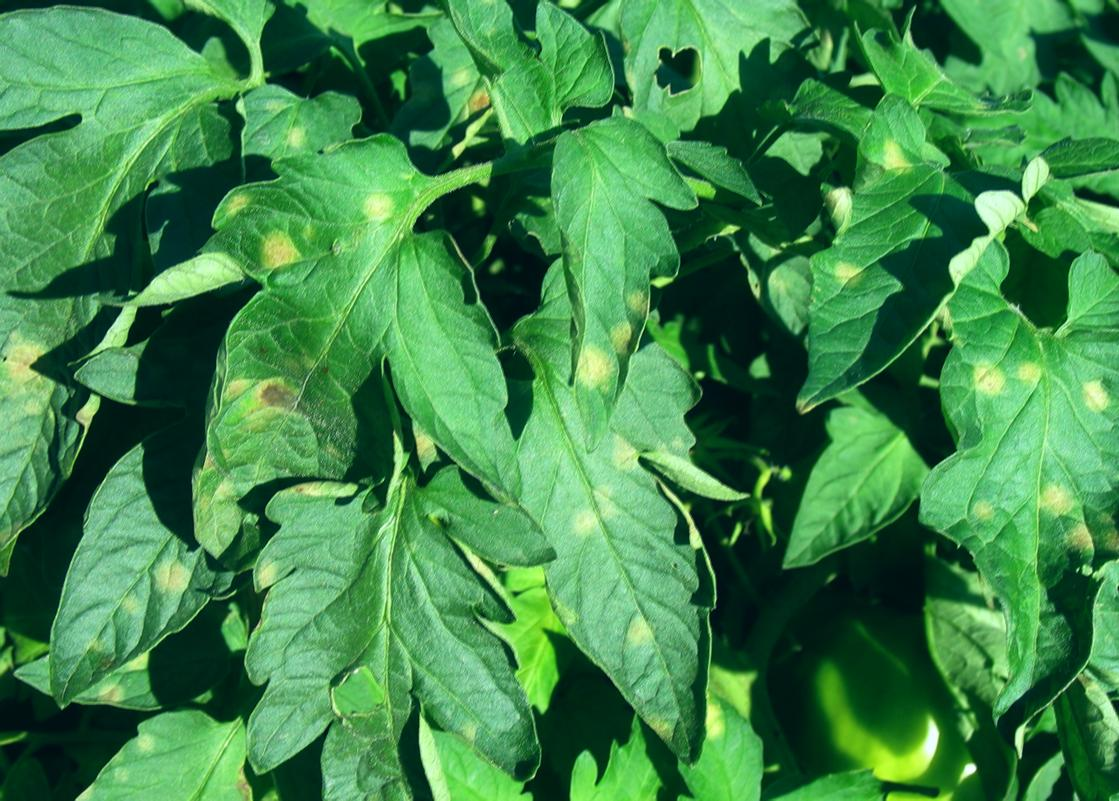Tomato mold leaf: (158, 118, 521, 541), (487, 305, 763, 761), (220, 478, 551, 801), (939, 231, 1119, 727), (790, 104, 1038, 398), (39, 428, 248, 717), (549, 114, 679, 455)
